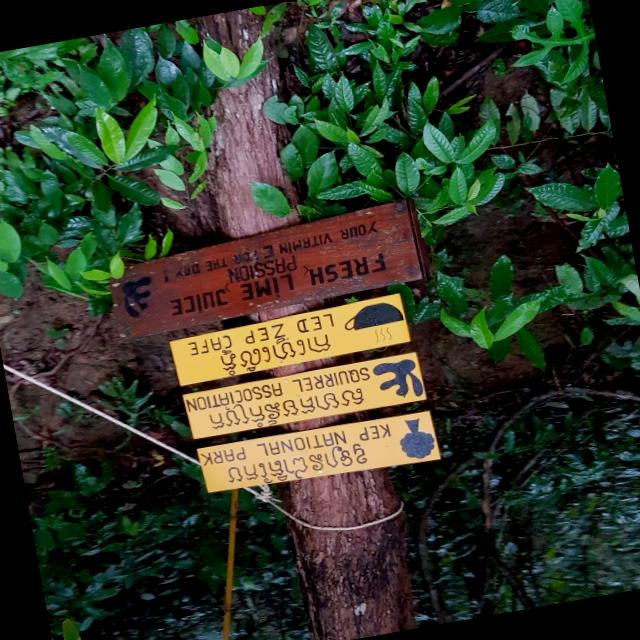Yolov11kh: (205, 382, 372, 435), (205, 325, 343, 380), (224, 442, 374, 492)
